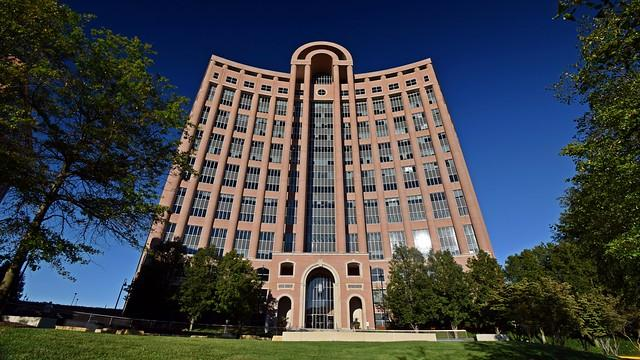building: (120, 38, 504, 338)
